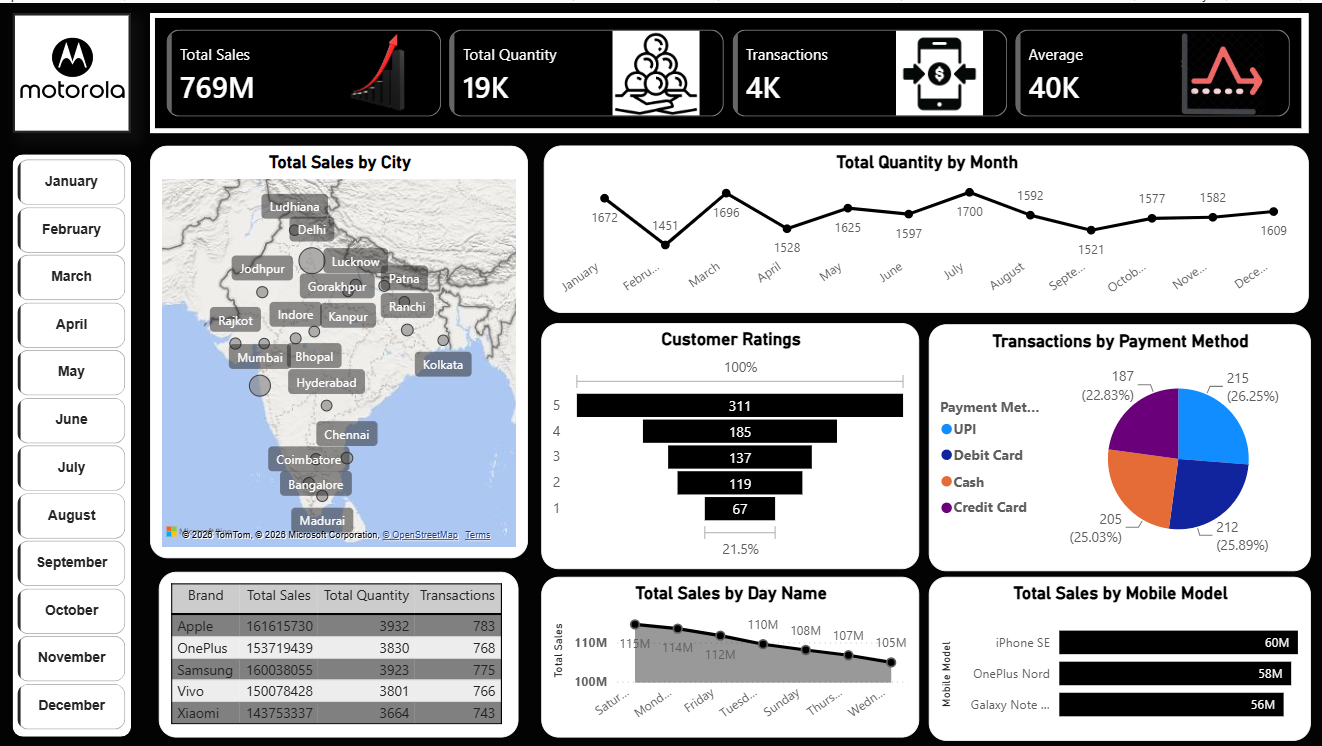

The page's visual inventory and layout, read from the dashboard file:
{"tool":"powerbi","page":{"name":"Page 1","canvas":[1280,720],"ordinal":0},"visuals":[{"type":"shape","box":[12.1,146,114.6,562.2],"z":0},{"type":"image","box":[12.1,9.7,114.6,115.8],"z":1000},{"type":"advancedSlicerVisual","fields":{"Values":["Sales Data.Date.Variation.Date Hierarchy.Month"]},"box":[12.1,146,114.6,562.2],"z":2000},{"type":"cardVisual","fields":{"Data":["Sales Data.Total Sales","Sales Data.Total Quantity","Sales Data.Transactions","Sales Data.Average"]},"box":[145,10,1118.8,116.2],"z":3000},{"type":"map","fields":{"Category":["Sales Data.City"],"Size":["Sales Data.Total Sales"]},"box":[145,137.5,365,398.8],"z":4000},{"type":"lineChart","fields":{"Category":["Sales Data.Date.Variation.Date Hierarchy.Month","Sales Data.Date.Variation.Date Hierarchy.Day"],"Y":["Sales Data.Total Quantity"]},"box":[525,137.5,738.8,161.2],"z":5000},{"type":"clusteredBarChart","fields":{"Category":["Sales Data.Mobile Model"],"Y":["Sales Data.Total Sales"]},"box":[896.2,553.8,368.8,158.8],"z":6000},{"type":"pieChart","fields":{"Category":["Sales Data.Payment Method"],"Y":["Sales Data.Transactions"]},"box":[896.2,310,368.8,238.8],"z":7000},{"type":"funnel","title":"Customer Ratings ","fields":{"Category":["Sales Data.Customer Ratings"],"Y":["CountNonNull(Sales Data.Customer Ratings)"]},"box":[522.5,308.8,365,237.5],"z":8000},{"type":"areaChart","fields":{"Y":["Sales Data.Total Sales"],"Category":["Sales Data.Day Name"]},"box":[522.5,553.8,365,155],"z":9000},{"type":"tableEx","fields":{"Values":["Sales Data.Brand","Sales Data.Total Sales","Sales Data.Total Quantity","Sales Data.Transactions"]},"box":[153.8,548.8,347.5,160],"z":10000}]}

Visuals, with their boxes in screenshot pixels (x1, y1, x2, y2), scaled from the page's 1280x720 canvas onto the 1322x746 screenshot:
shape: [12, 151, 131, 734]
image: [12, 10, 131, 130]
advancedSlicerVisual - Sales Data.Date.Variation.Date Hierarchy.Month: [12, 151, 131, 734]
cardVisual - Sales Data.Total Sales x Sales Data.Total Quantity: [150, 10, 1305, 131]
map - Sales Data.City x Sales Data.Total Sales: [150, 142, 527, 556]
lineChart - Sales Data.Date.Variation.Date Hierarchy.Month x Sales Data.Date.Variation.Date Hierarchy.Day: [542, 142, 1305, 309]
clusteredBarChart - Sales Data.Mobile Model x Sales Data.Total Sales: [926, 574, 1307, 738]
pieChart - Sales Data.Payment Method x Sales Data.Transactions: [926, 321, 1307, 569]
"Customer Ratings " funnel: [540, 320, 917, 566]
areaChart - Sales Data.Total Sales x Sales Data.Day Name: [540, 574, 917, 734]
tableEx - Sales Data.Brand x Sales Data.Total Sales: [159, 569, 518, 734]
